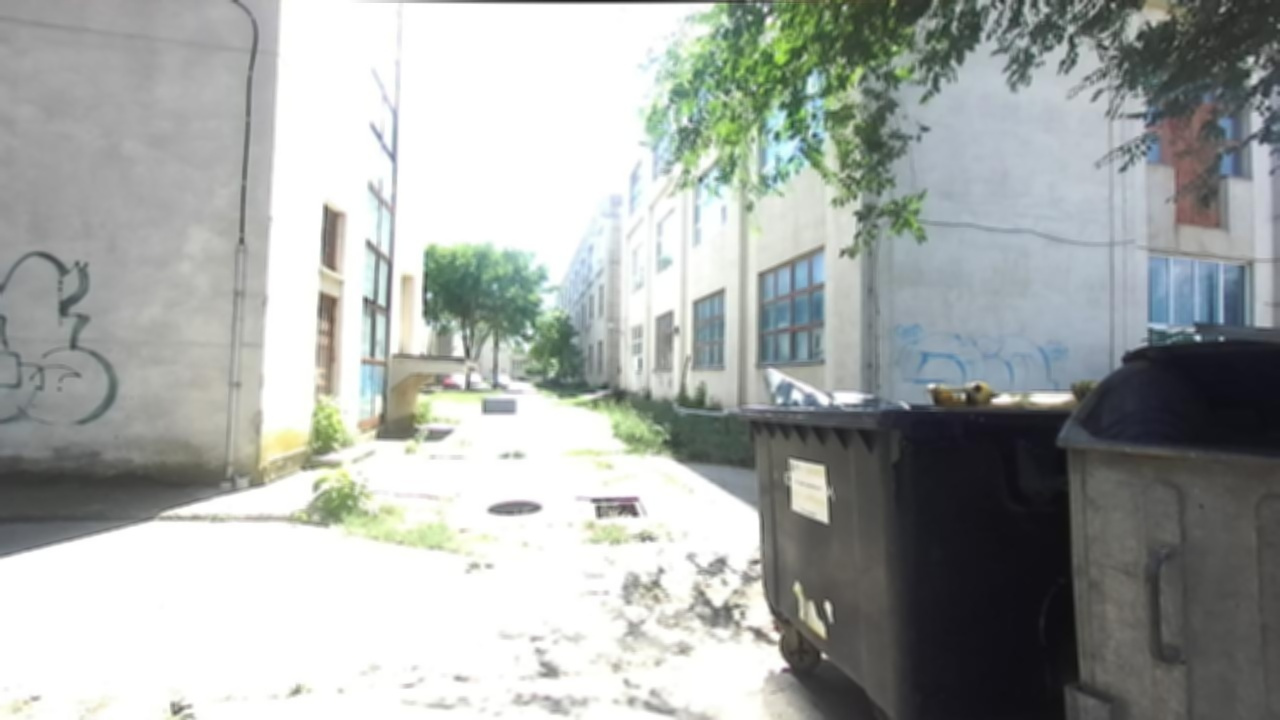drain: (588, 492, 648, 519), (484, 494, 546, 517)
